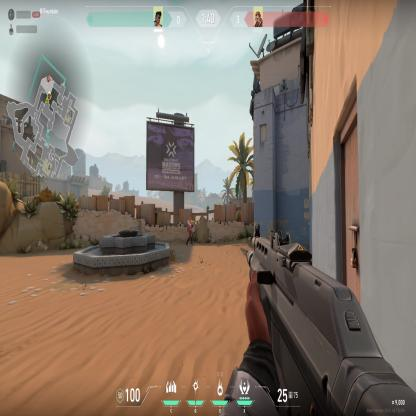enemy: (186, 216, 194, 246)
